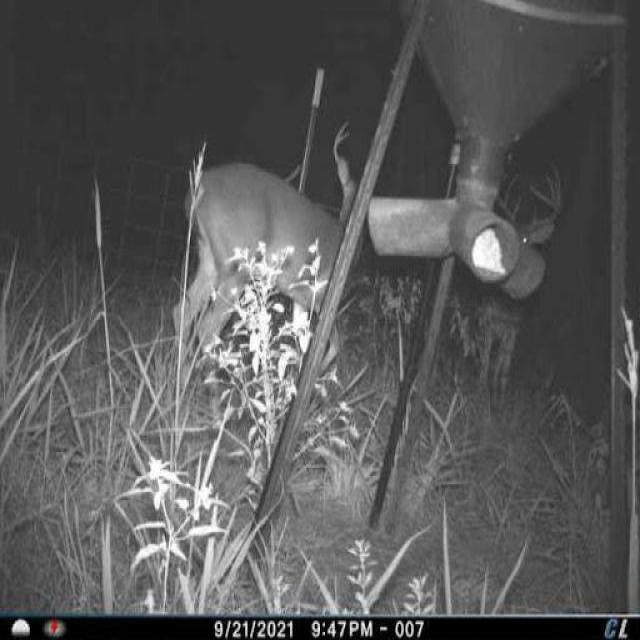deer: (156, 129, 375, 471), (430, 150, 572, 398)
